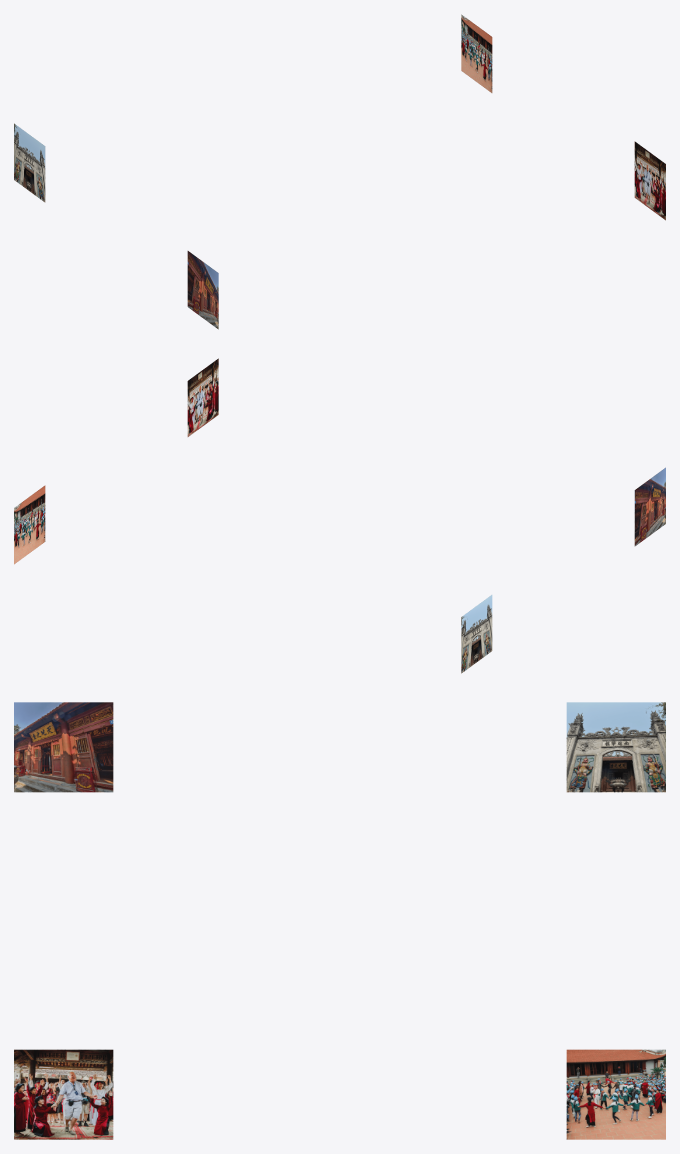
Rendered from bonus img phutho.glb.
3 renders of one model, top to bottom at view 1: azimuth 30°, elevation 25°; view 2: azimuth 150°, elevation 25°; view 3: azimuth 270°, elevation 25°, orthographic. The views are drawn at different scales.
Parts seen in each view (by area): view 1: bonus_img; view 2: bonus_img; view 3: bonus_img.
Part boxes in pixels (bbox=[...]): bonus_img: bbox=[14, 14, 665, 329]; bonus_img: bbox=[14, 358, 665, 673]; bonus_img: bbox=[14, 702, 665, 1139].
Bounding box in the file's own units: 14.88 × 1.8 × 11.8.
Materials: 1 (1 with a texture image).
